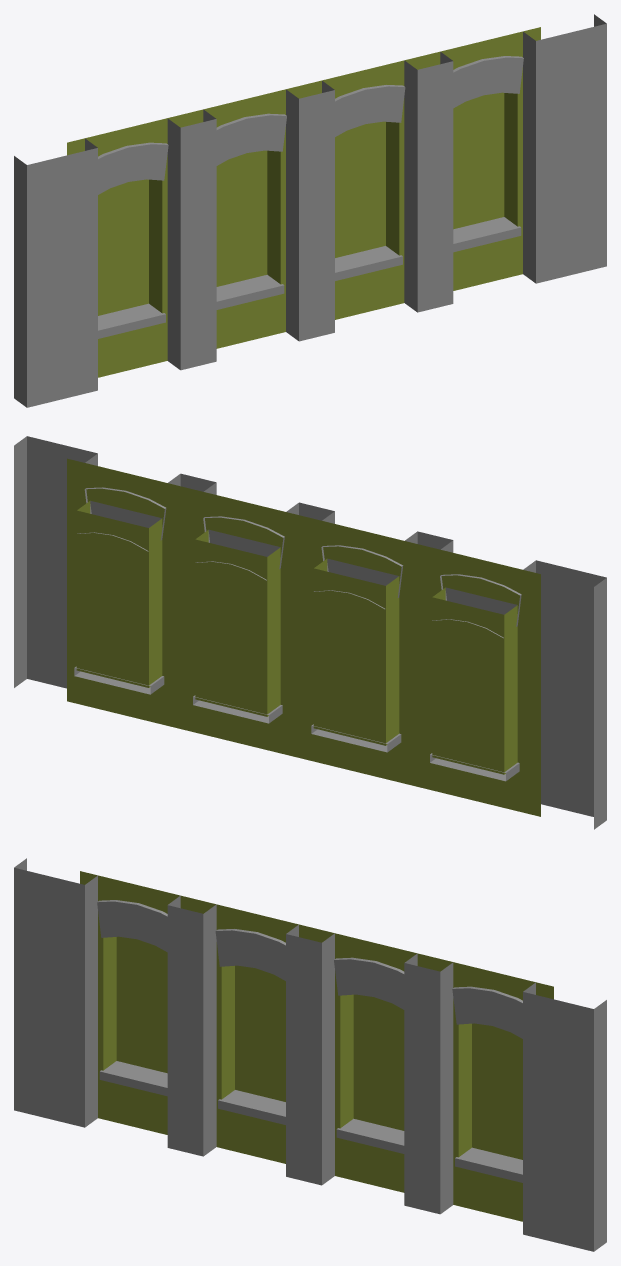
Rendered from wall1b lod0.FBX.
The picture shows the model from 3 angles, top to bottom: view 1: azimuth 30°, elevation 25°; view 2: azimuth 150°, elevation 25°; view 3: azimuth 330°, elevation 25°; orthographic projection.
Parts seen in each view (by area): view 1: Object318; view 2: Object318; view 3: Object318.
Part boxes in pixels (x1,y1,x2,y2): Object318: (14, 14, 606, 407); Object318: (14, 436, 606, 829); Object318: (14, 858, 606, 1251).
Bounding box in the file's own units: 10 × 4 × 0.809.
